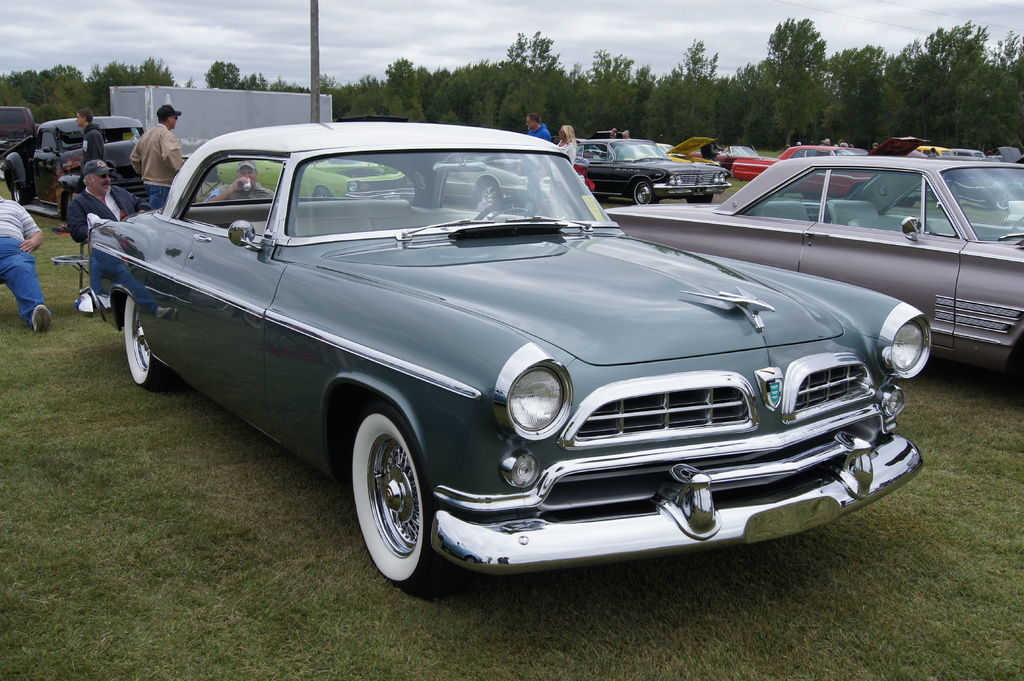Car: (0, 104, 1023, 596), (607, 151, 1023, 385), (8, 112, 206, 216), (570, 128, 728, 208)
